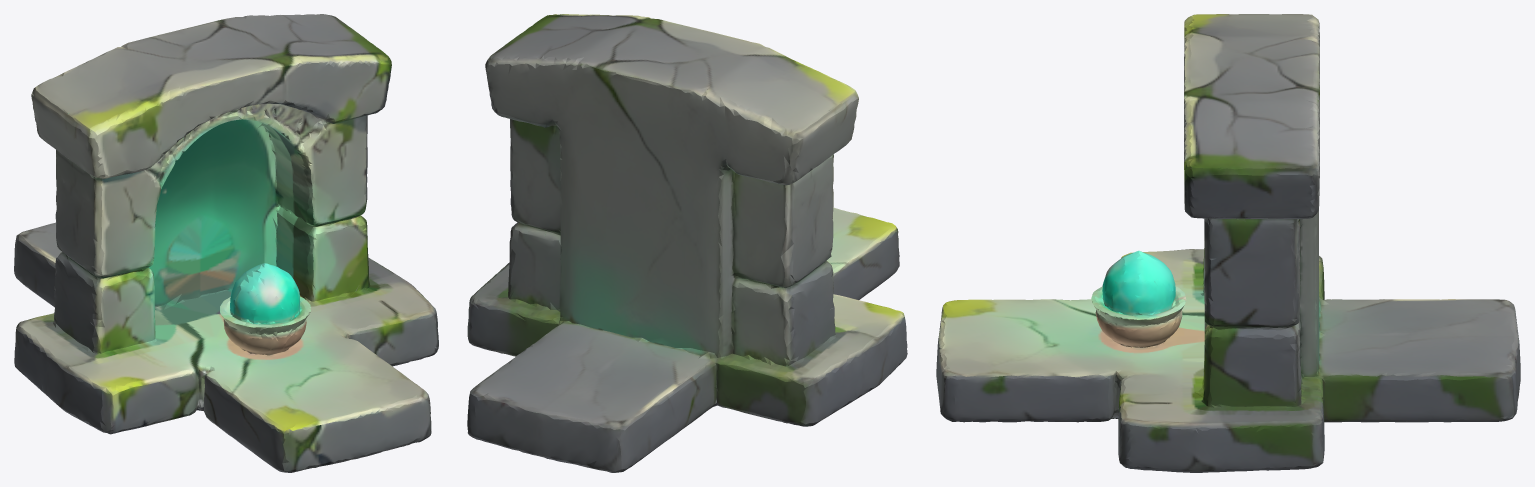
Rendered from rodin_Lab_Shrine_raw.glb.
3 views of the same model, side by side, from view 1: azimuth 30°, elevation 25°; view 2: azimuth 150°, elevation 25°; view 3: azimuth 270°, elevation 25° (orthographic). The views are drawn at different scales.
Visible parts, largest first — view 1: model; view 2: model; view 3: model.
Part boxes in pixels (box(x1,y1,x2,y2)): model: box(14, 14, 438, 472); model: box(467, 14, 907, 472); model: box(936, 14, 1520, 472).
Size of the model in its own units: 1.39 by 1.13 by 1.89.
1 material, 1 textured.
